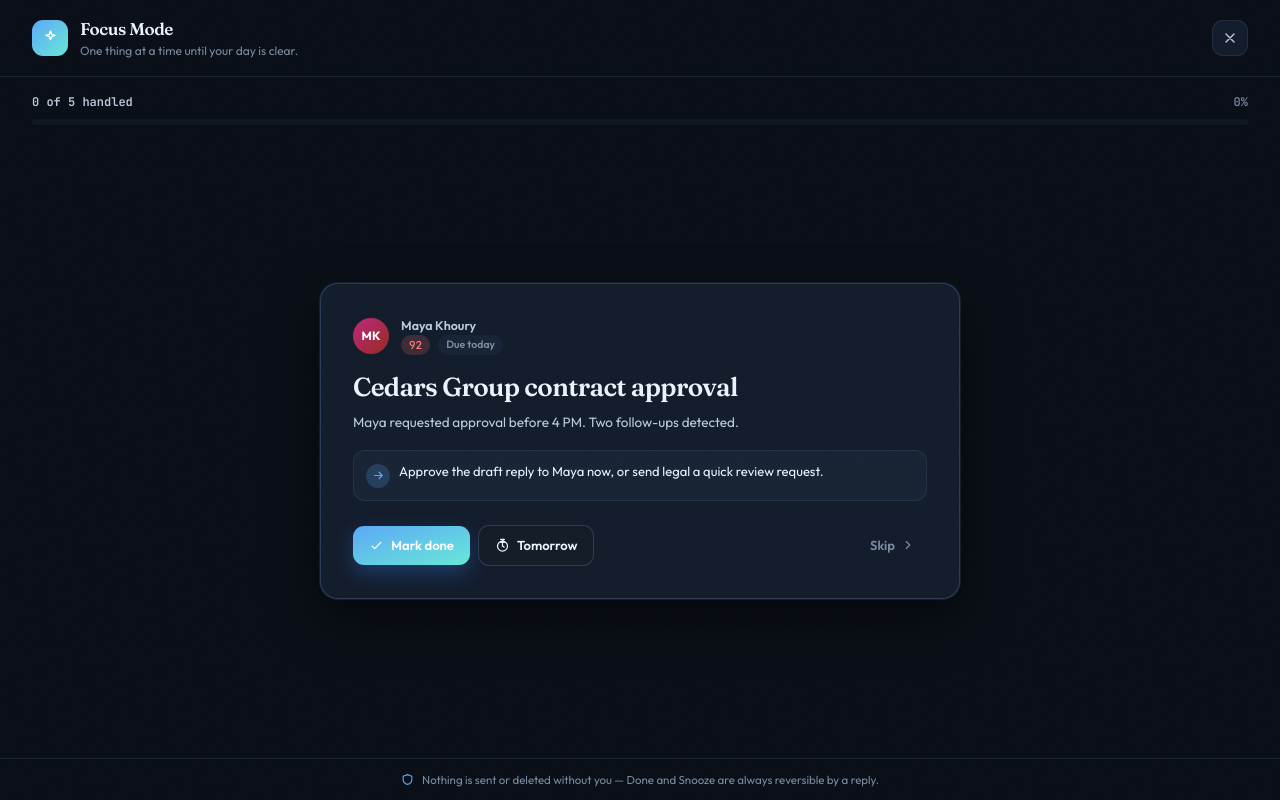
Test: FocusMode › Skip moves to the next item and updates progress
Click the button "Skip" at point(893, 545), box [858, 526, 927, 565]
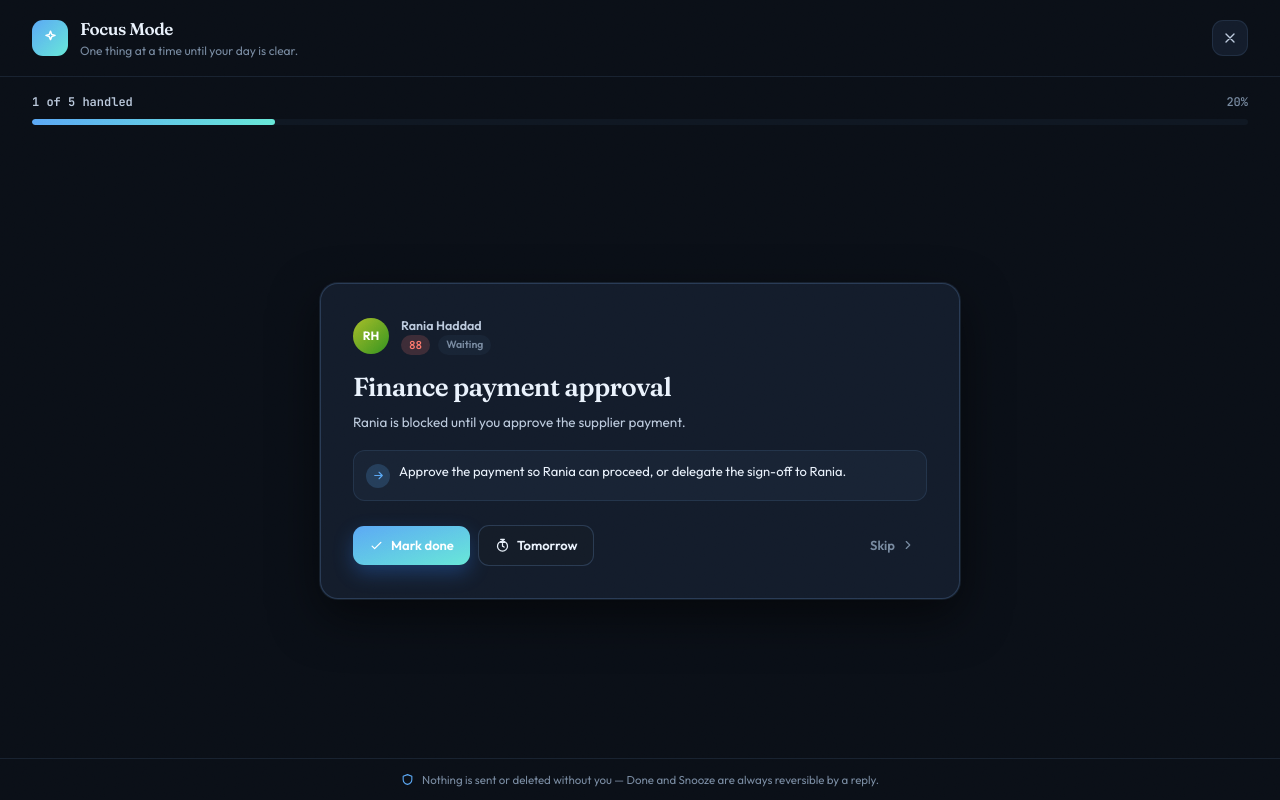
expect the heading "Finance payment approval" is shown: met, box [353, 371, 671, 403]
